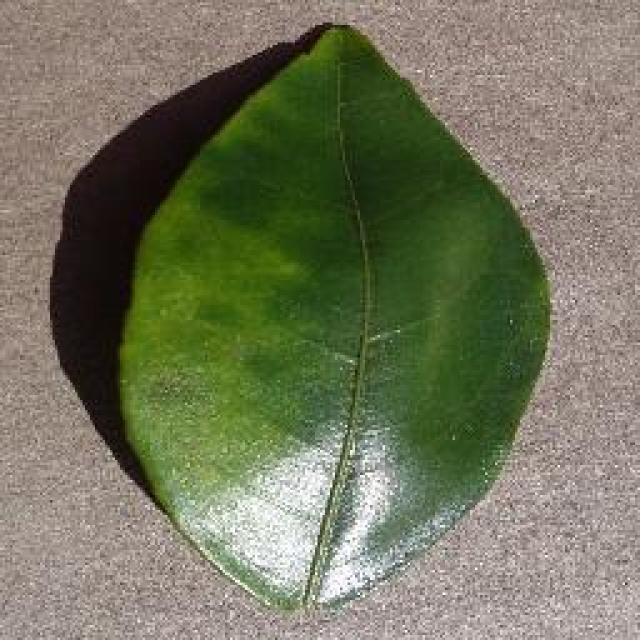Orange_Haunglongbing_Citrus_greening: (174, 107, 505, 544)
